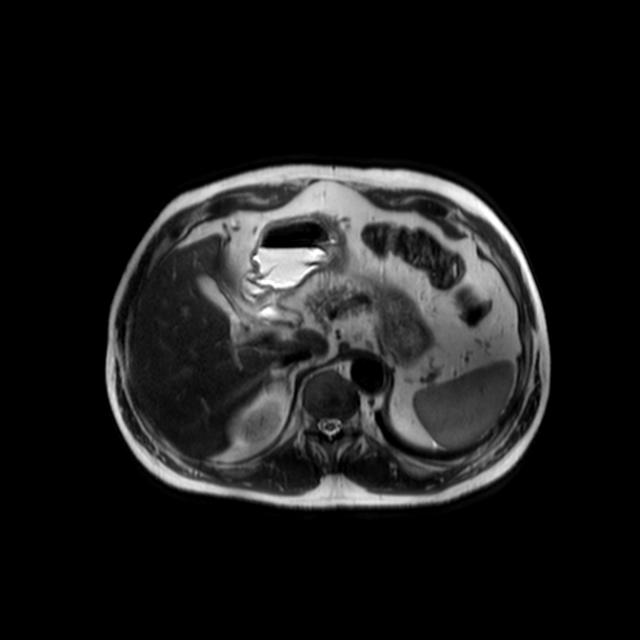sag: (238, 402, 281, 442)
